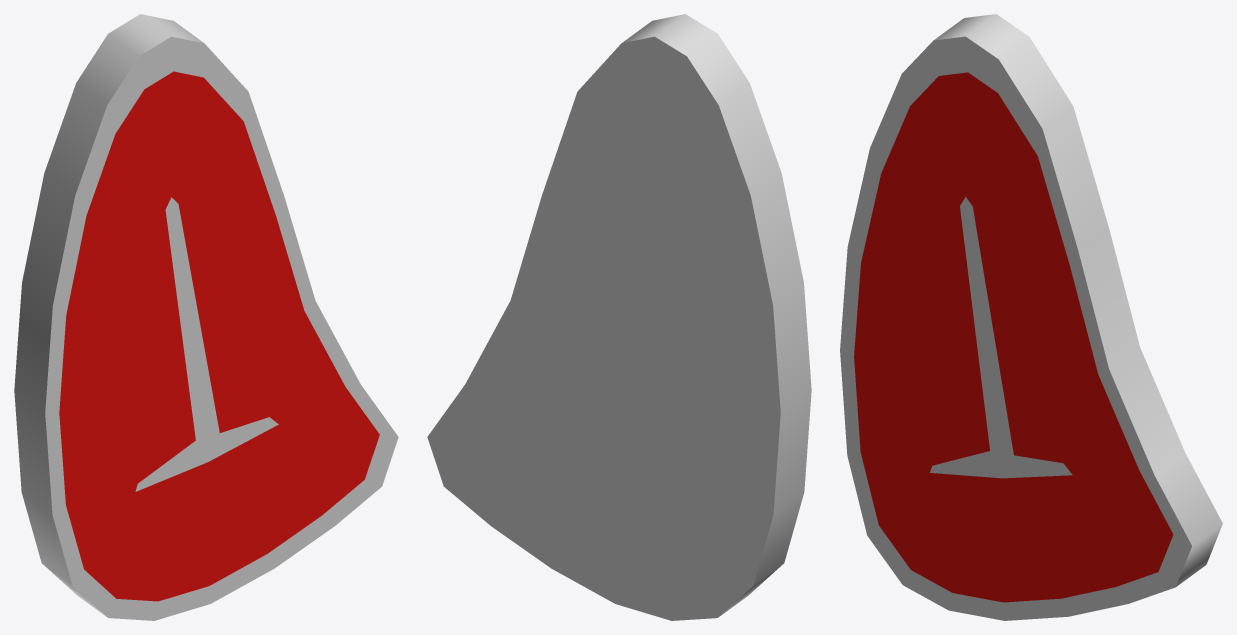
Rendered from Steak_01.obj.
The picture shows the model from 3 angles, left to right: view 1: azimuth 30°, elevation 25°; view 2: azimuth 150°, elevation 25°; view 3: azimuth 330°, elevation 25°; orthographic projection.
Visible parts, largest first — view 1: pCylinder60; view 2: pCylinder60; view 3: pCylinder60.
Boxes of the visible parts, x1,y1,x2,y2 form: pCylinder60: (14, 14, 398, 620); pCylinder60: (427, 14, 811, 620); pCylinder60: (840, 14, 1222, 620).
Bounding box in the file's own units: 176 × 276 × 26.63.
